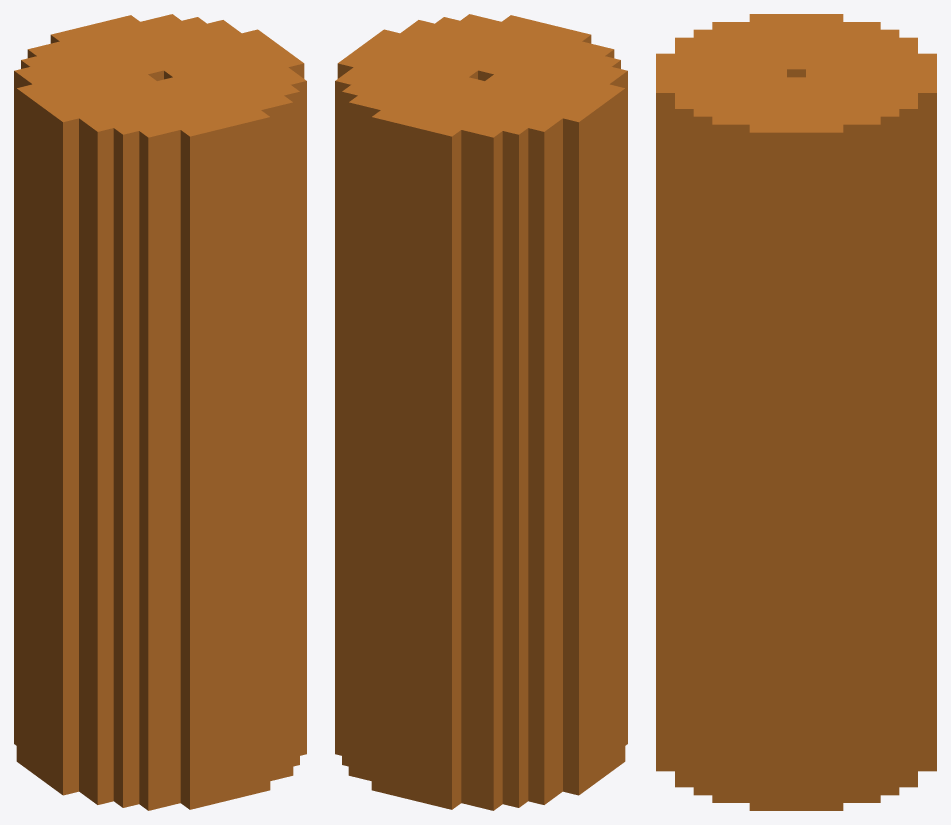
File: cable_normal.obj
3 views of the same model, side by side, from view 1: azimuth 30°, elevation 25°; view 2: azimuth 150°, elevation 25°; view 3: azimuth 270°, elevation 25° (orthographic).
Visible parts, largest first — view 1: cable_normal; view 2: cable_normal; view 3: cable_normal.
Part boxes in pixels (x1,y1,x2,y2): cable_normal: (14, 14, 306, 810); cable_normal: (335, 14, 627, 810); cable_normal: (656, 14, 936, 810).
Size of the model in its own units: 15 by 40 by 15.
Materials: 1 (1 with a texture image).
